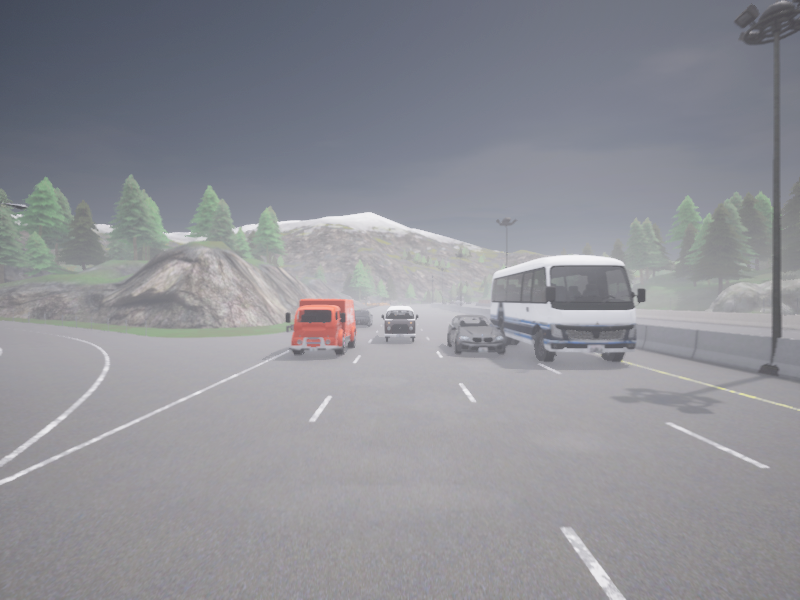vehicle: (490, 255, 645, 361), (285, 299, 356, 355), (447, 315, 505, 354), (382, 306, 417, 342), (354, 310, 372, 327), (456, 296, 464, 304), (443, 301, 446, 304), (451, 301, 455, 303), (467, 302, 472, 303), (449, 303, 453, 304)
